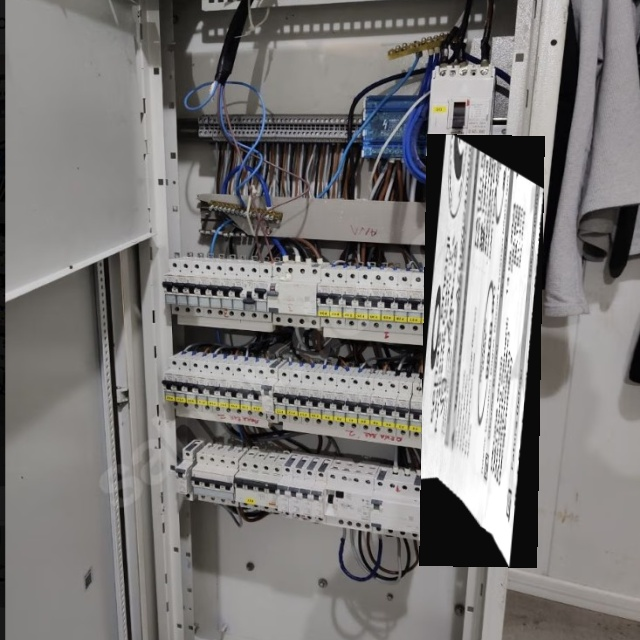electricity-bill: (419, 133, 545, 567)
